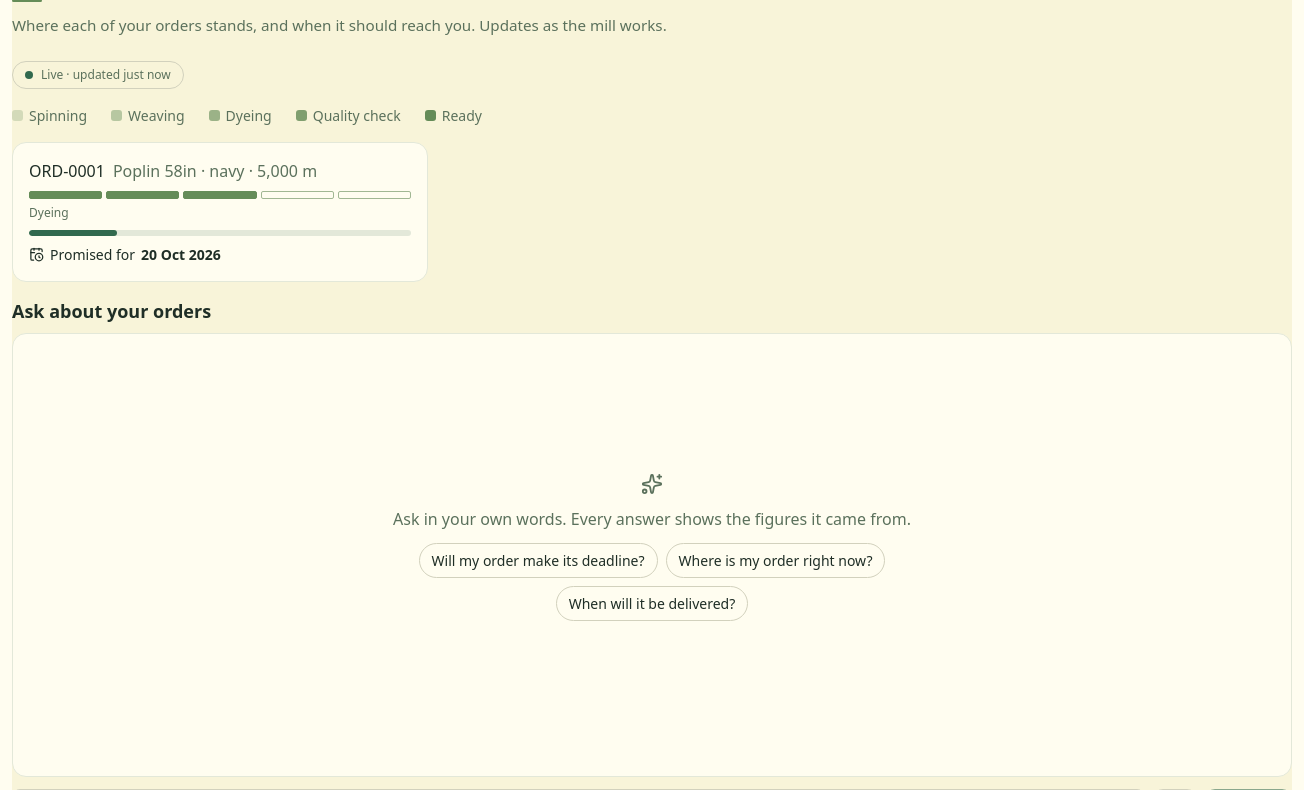
Test case: buyer portal home › answers a question from the buyer assistant and shows its sources
(page scrolled)
Click the button "Will my order make its deadline?" at (538, 560), box [418, 543, 658, 578]
(page scrolled)
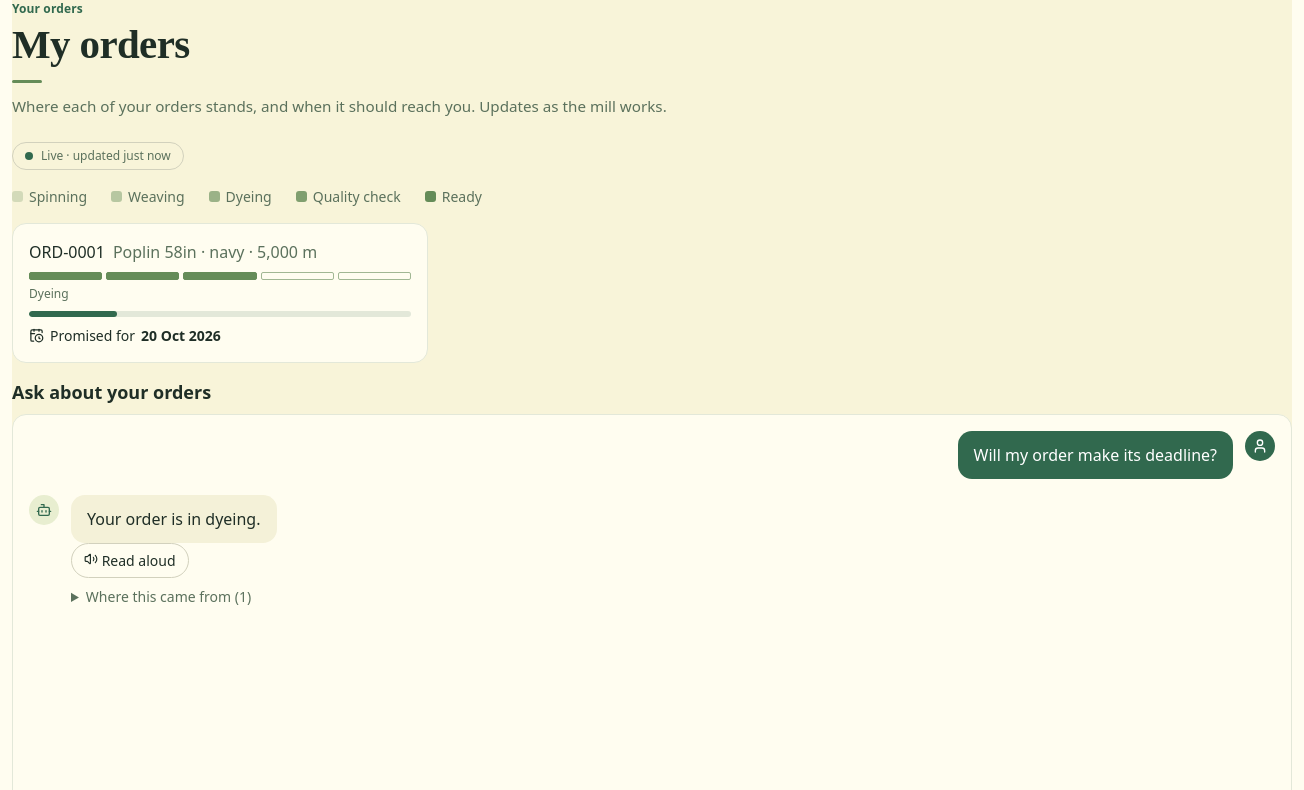
expect the text "Your order is in dyeing." is shown: met, box [87, 507, 260, 531]
